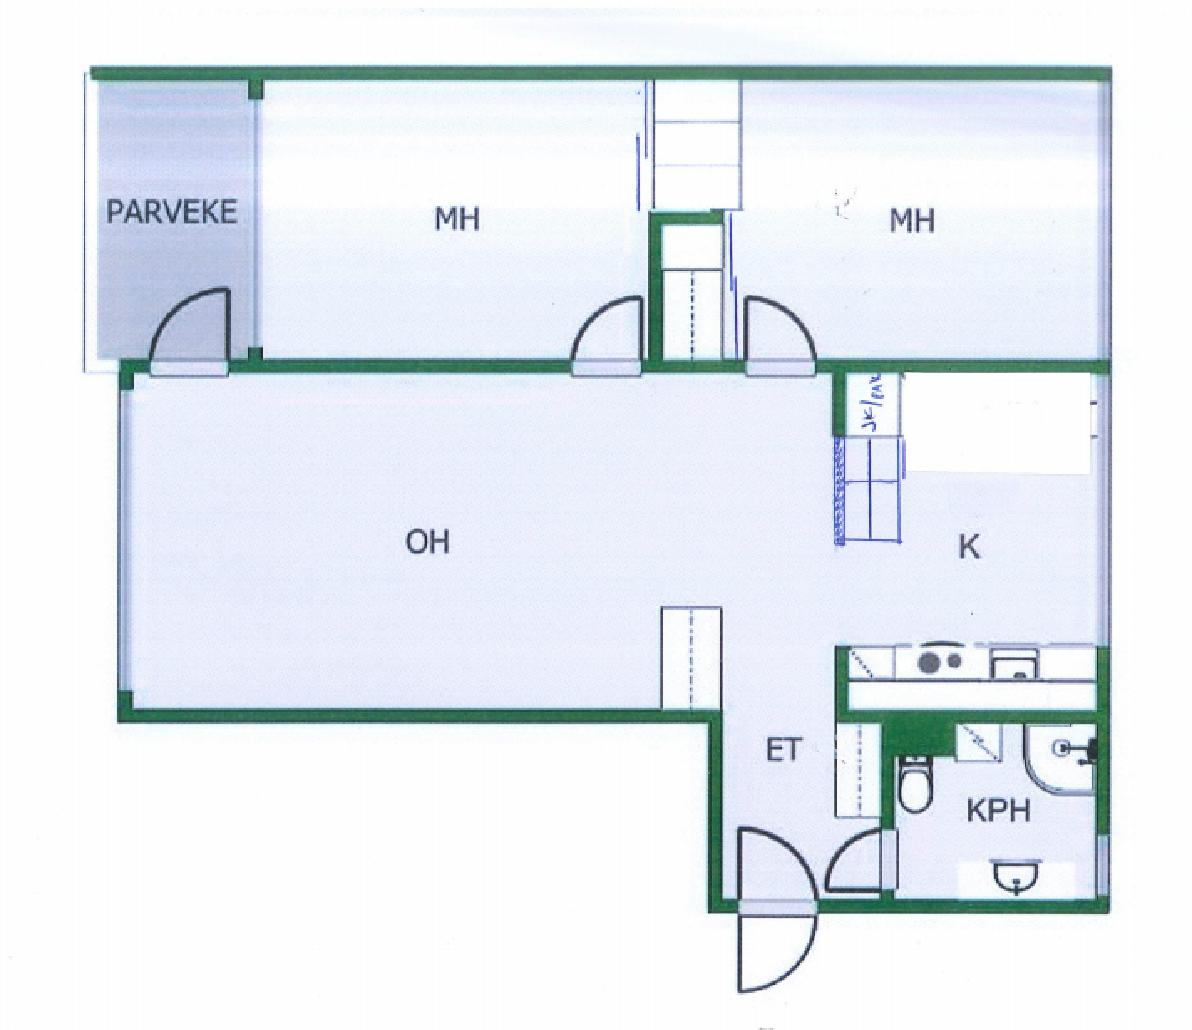door: (734, 821, 827, 997), (146, 285, 231, 377), (568, 283, 643, 381), (743, 292, 819, 387), (816, 824, 909, 900)
window: (1094, 372, 1113, 650), (115, 393, 131, 690), (1093, 80, 1109, 361), (1099, 836, 1110, 900)
zone: (128, 375, 1097, 933), (262, 75, 651, 357), (729, 74, 1097, 349), (97, 76, 254, 358), (887, 718, 1093, 901)
